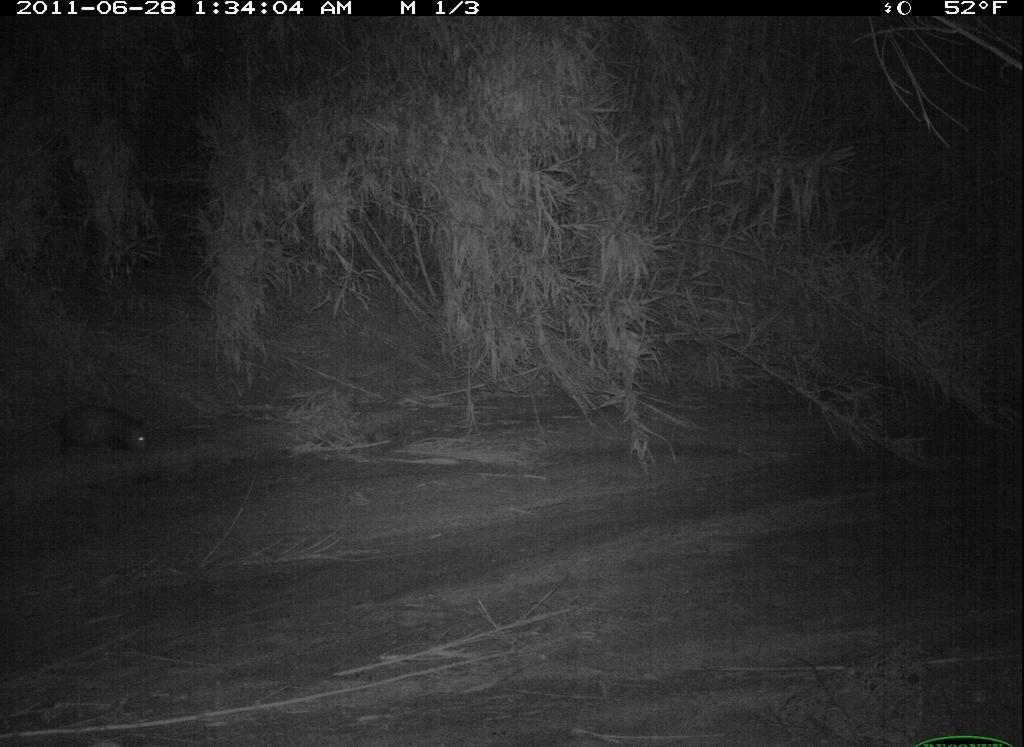opossum: (36, 393, 172, 465)
